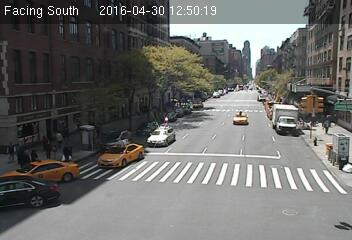neg: (274, 171, 296, 200), (325, 68, 347, 97), (181, 114, 201, 142), (37, 54, 56, 80), (33, 180, 52, 205), (225, 134, 243, 158), (112, 98, 129, 120), (65, 90, 82, 112), (132, 166, 148, 188), (49, 14, 65, 35), (92, 7, 107, 27), (81, 205, 96, 225), (120, 55, 134, 73), (196, 26, 208, 42), (231, 16, 243, 32), (162, 43, 174, 58), (178, 195, 190, 210), (307, 40, 318, 55), (270, 84, 280, 98)
pos: (315, 114, 333, 138), (58, 141, 73, 161), (3, 139, 18, 159), (42, 141, 57, 161), (49, 125, 63, 144), (18, 146, 32, 164), (37, 132, 48, 146), (26, 147, 36, 161)
